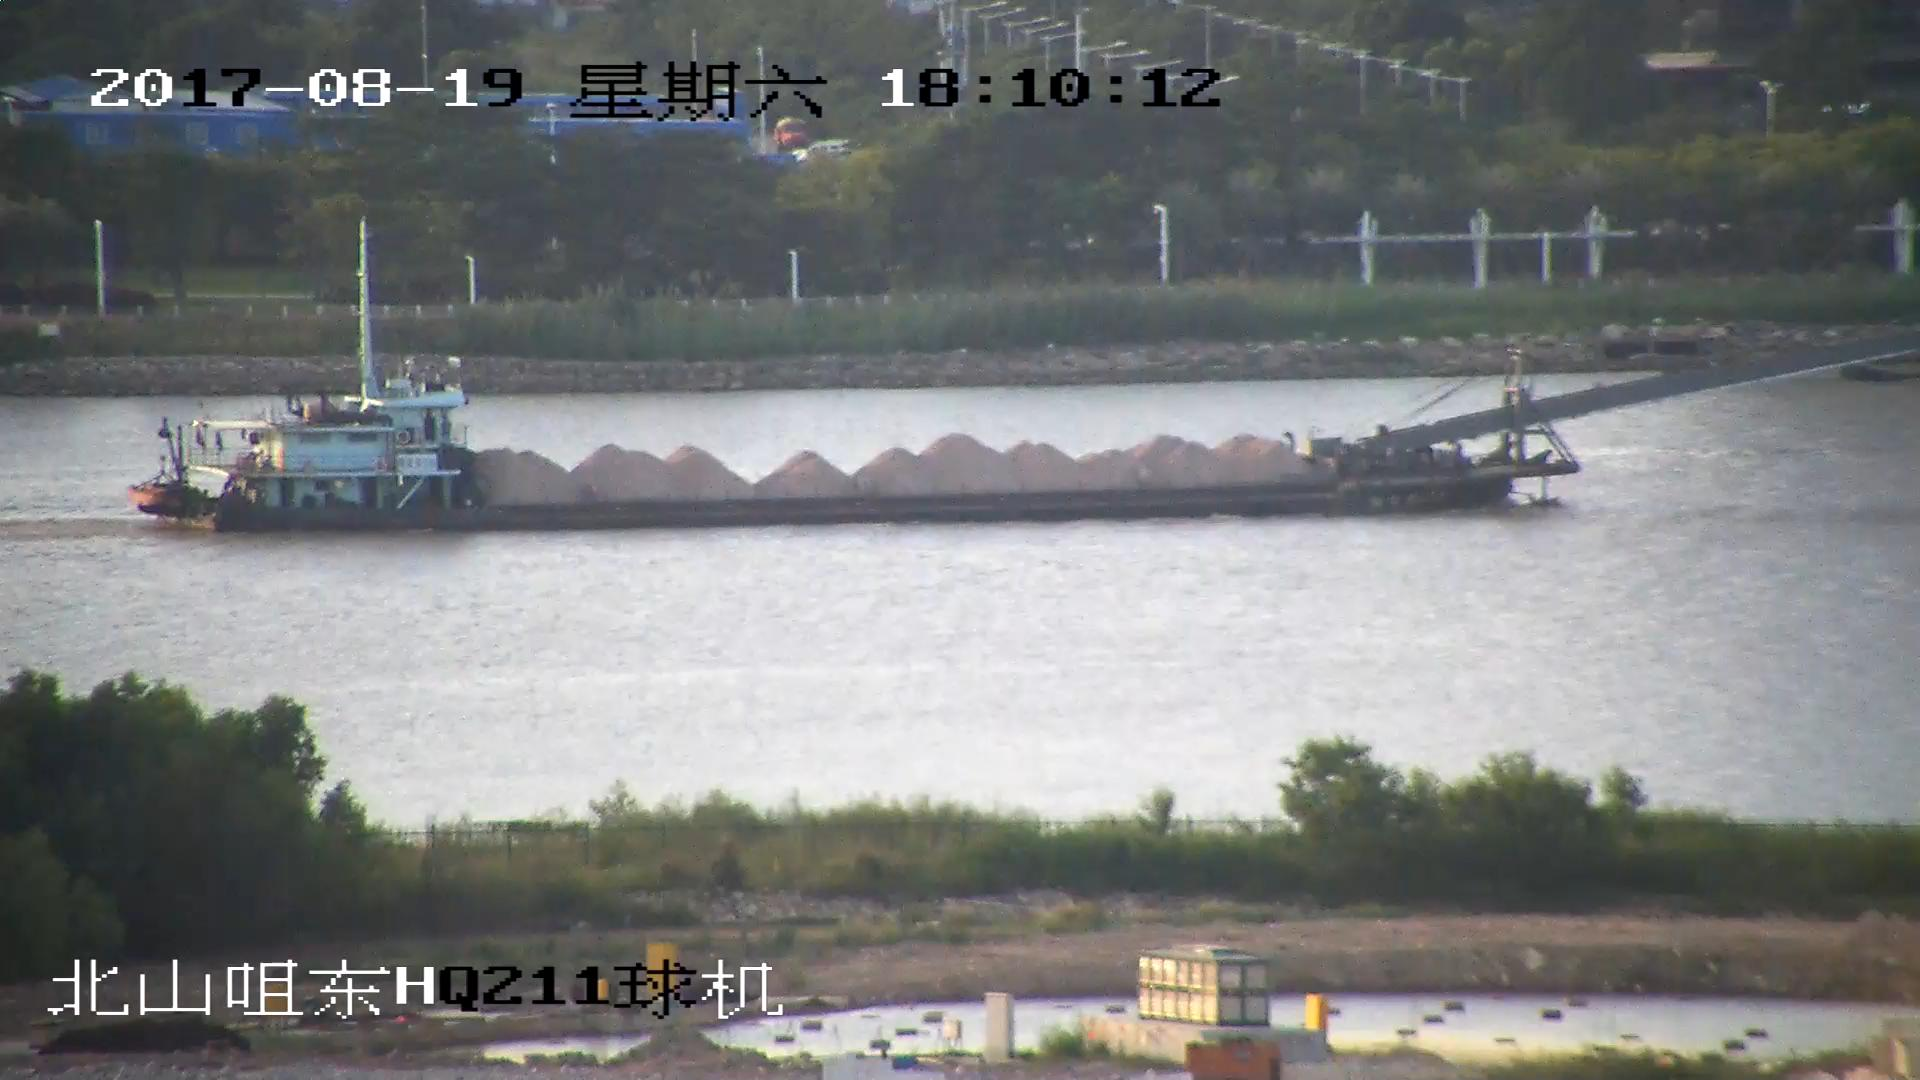ore carrier: (132, 214, 1920, 536)
